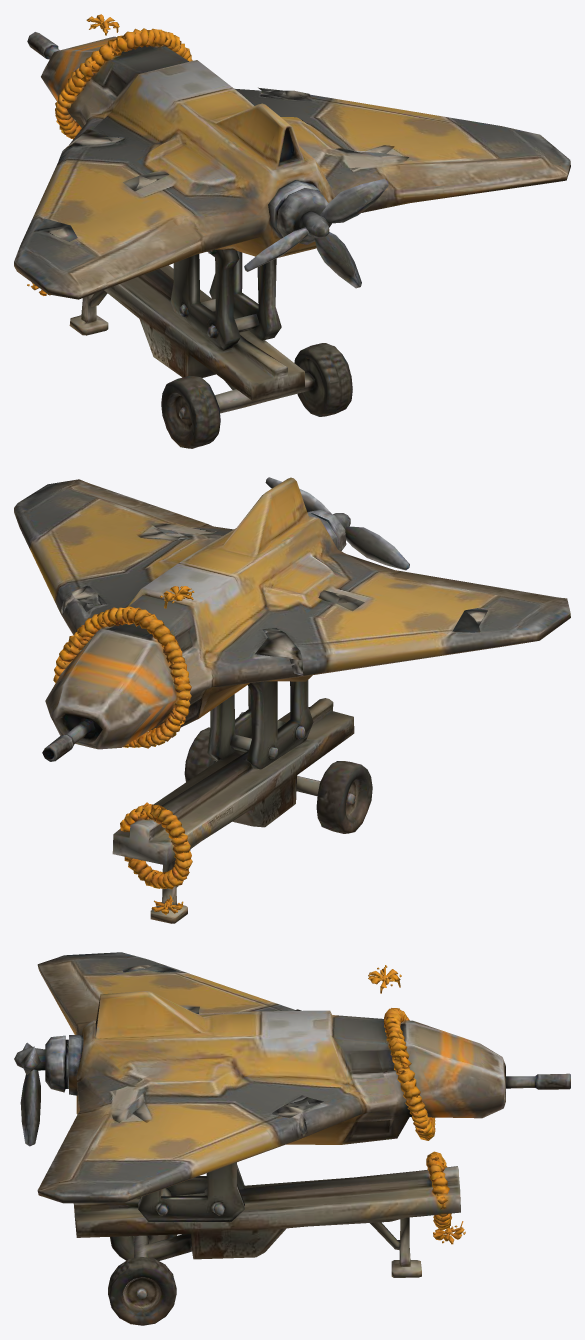
File: kite_loiterer.glb
3 views of the same model, one above another, from view 1: azimuth 30°, elevation 25°; view 2: azimuth 150°, elevation 25°; view 3: azimuth 270°, elevation 25° (orthographic). The views are drawn at different scales.
Visible parts, largest first — view 1: Body; view 2: Body; view 3: Body.
Part boxes in pixels (x1=…): Body: x1=14, y1=14, x2=570, y2=448; Body: x1=14, y1=477, x2=570, y2=923; Body: x1=14, y1=952, x2=570, y2=1325.
Bounding box in the file's own units: 2.5 × 1.49 × 2.43.
Materials: 2 (2 with a texture image).
